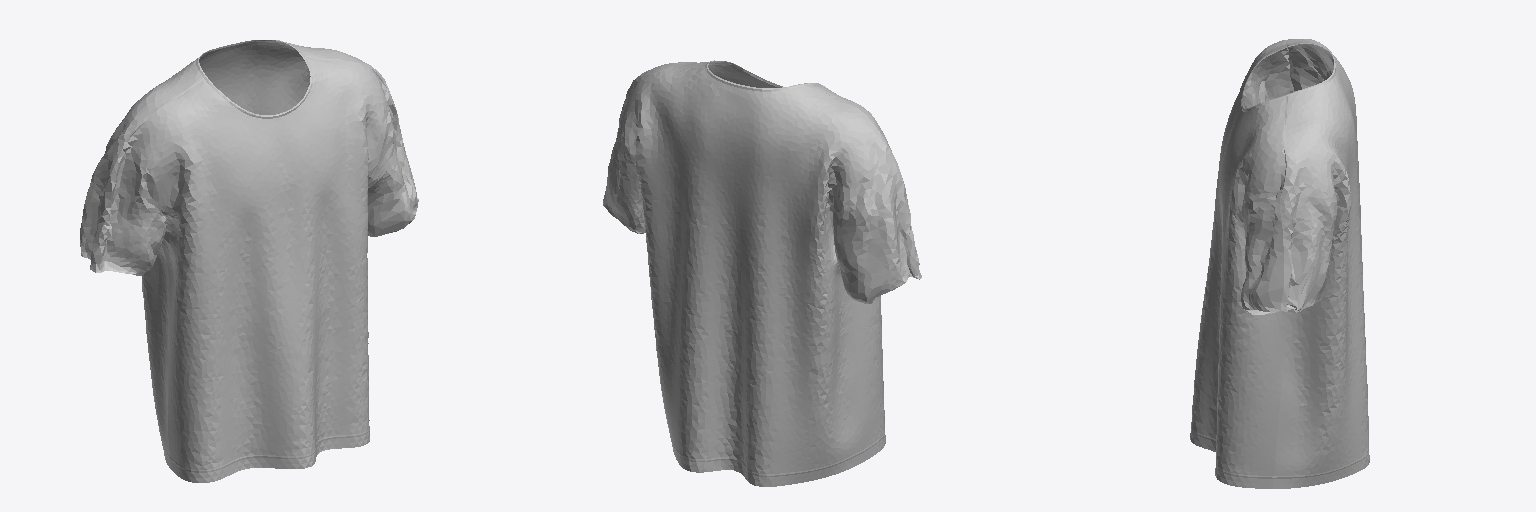
File: Medium_Tall.obj
The picture shows the model from 3 angles: view 1: azimuth 30°, elevation 25°; view 2: azimuth 150°, elevation 25°; view 3: azimuth 270°, elevation 25°; orthographic projection.
Visible parts, largest first — view 1: 短袖.001; view 2: 短袖.001; view 3: 短袖.001.
Boxes of the visible parts, <box> form: 短袖.001: <box>80,40,418,482</box>; 短袖.001: <box>603,60,921,486</box>; 短袖.001: <box>1190,39,1369,488</box>.
Bounding box in the file's own units: 0.6035 × 0.6962 × 0.2951.